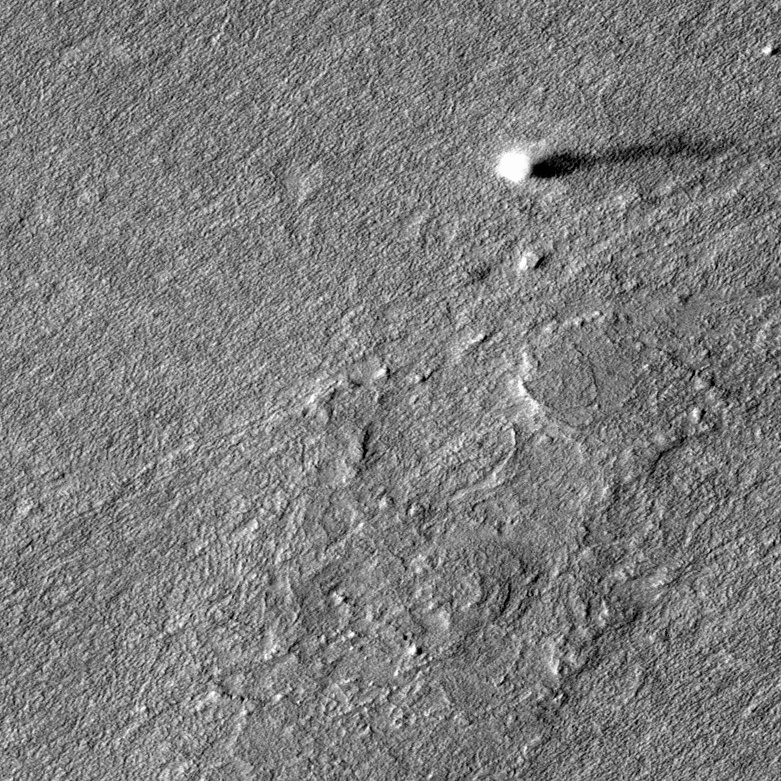dust_devil: (494, 134, 734, 186)
